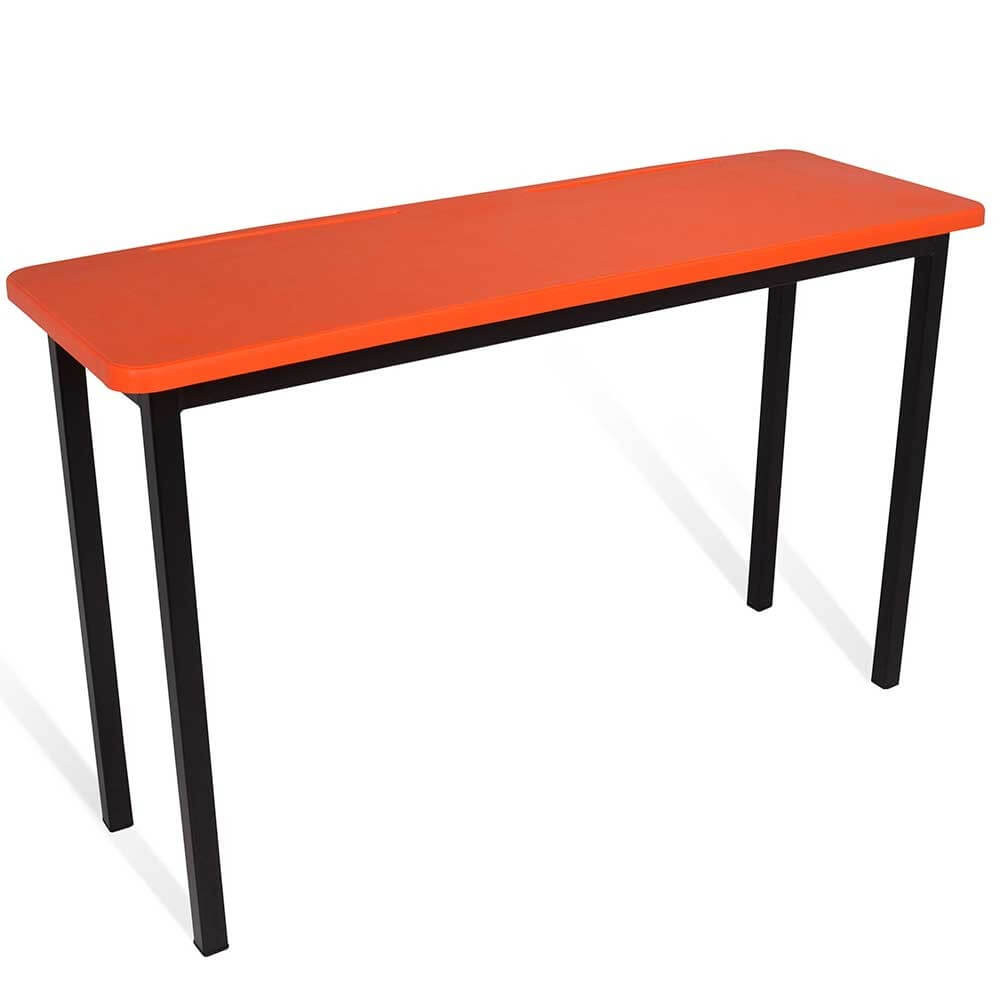m01: (3, 147, 990, 957)
